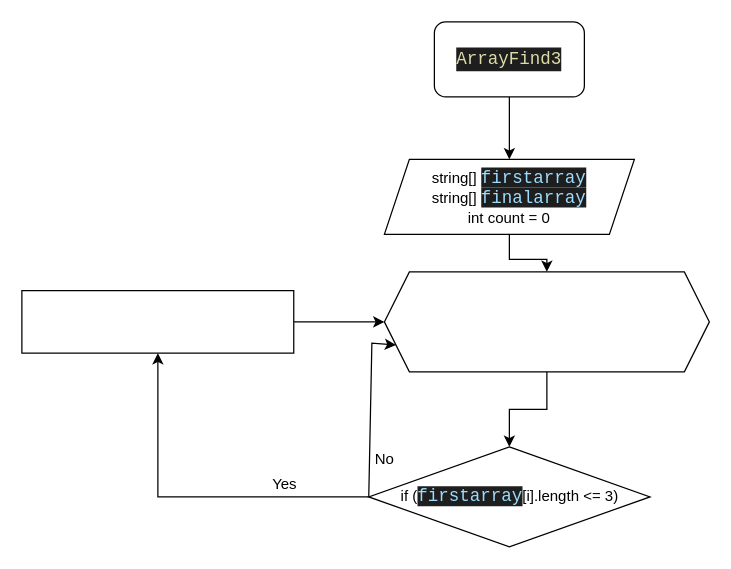
The diagram is 731 pixels wide and 569 high, and some of its shapes have lost their labels. The shapes that lost their labels are listed below. From the top down, each one's centre as x and y in pixels, then its label:
At (x=157, y=321): "finalarray [count] = firstarray [i] count++;".
At (x=546, y=321): "for (int i = 0; i < firstarray .length; i++)".
